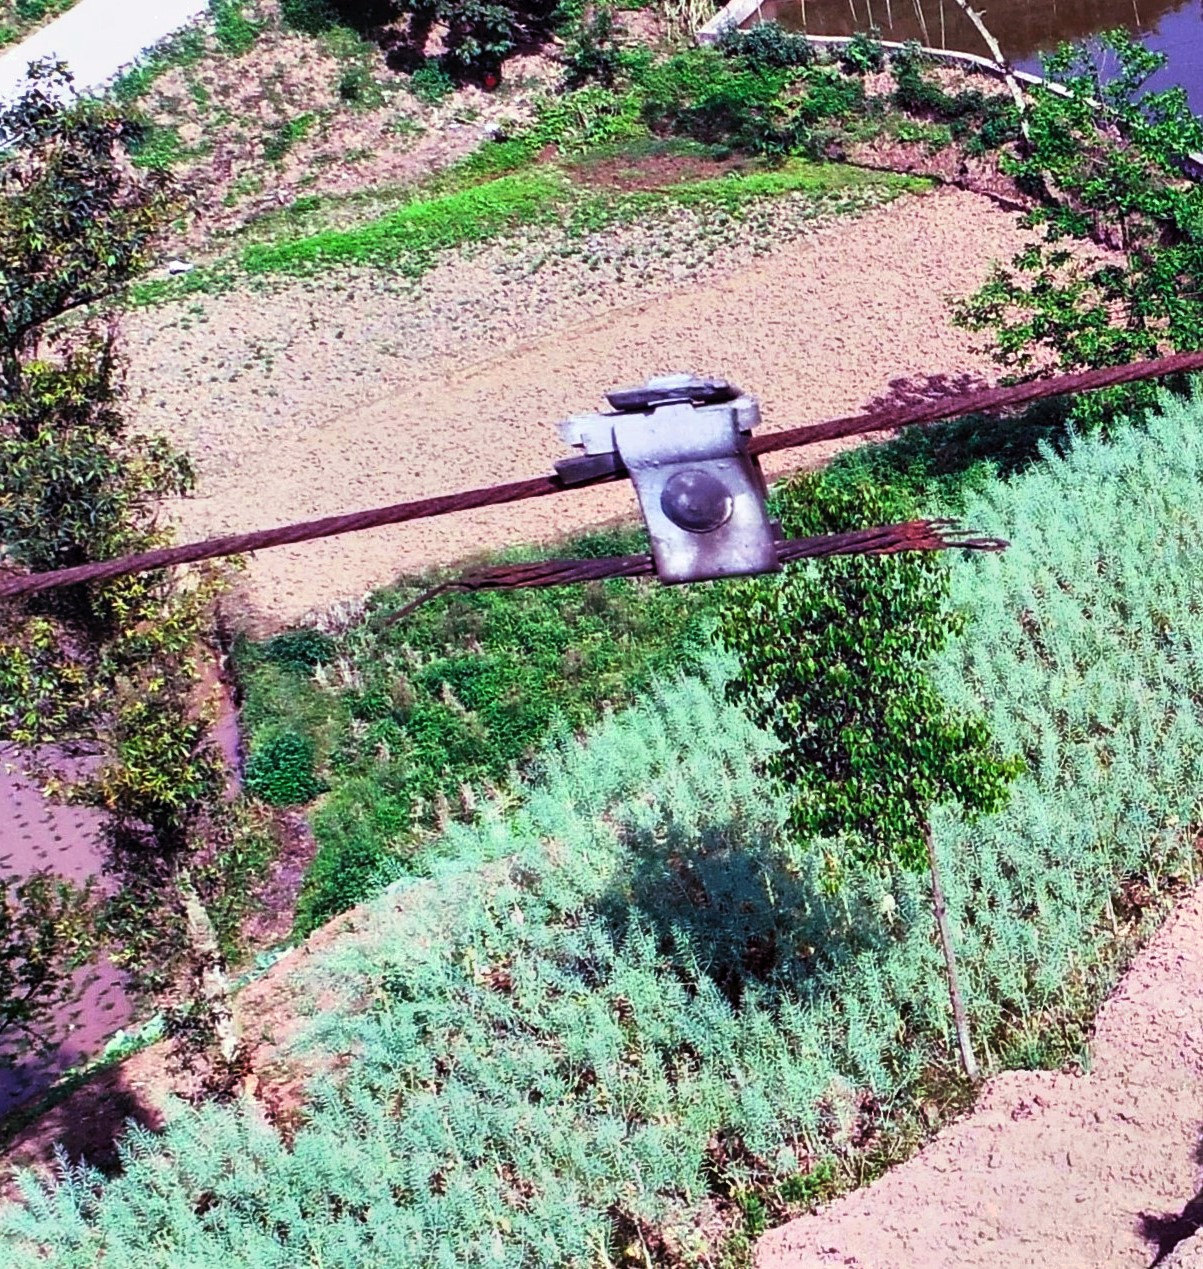Damage of shockproof hammer: (445, 340, 1007, 625)
